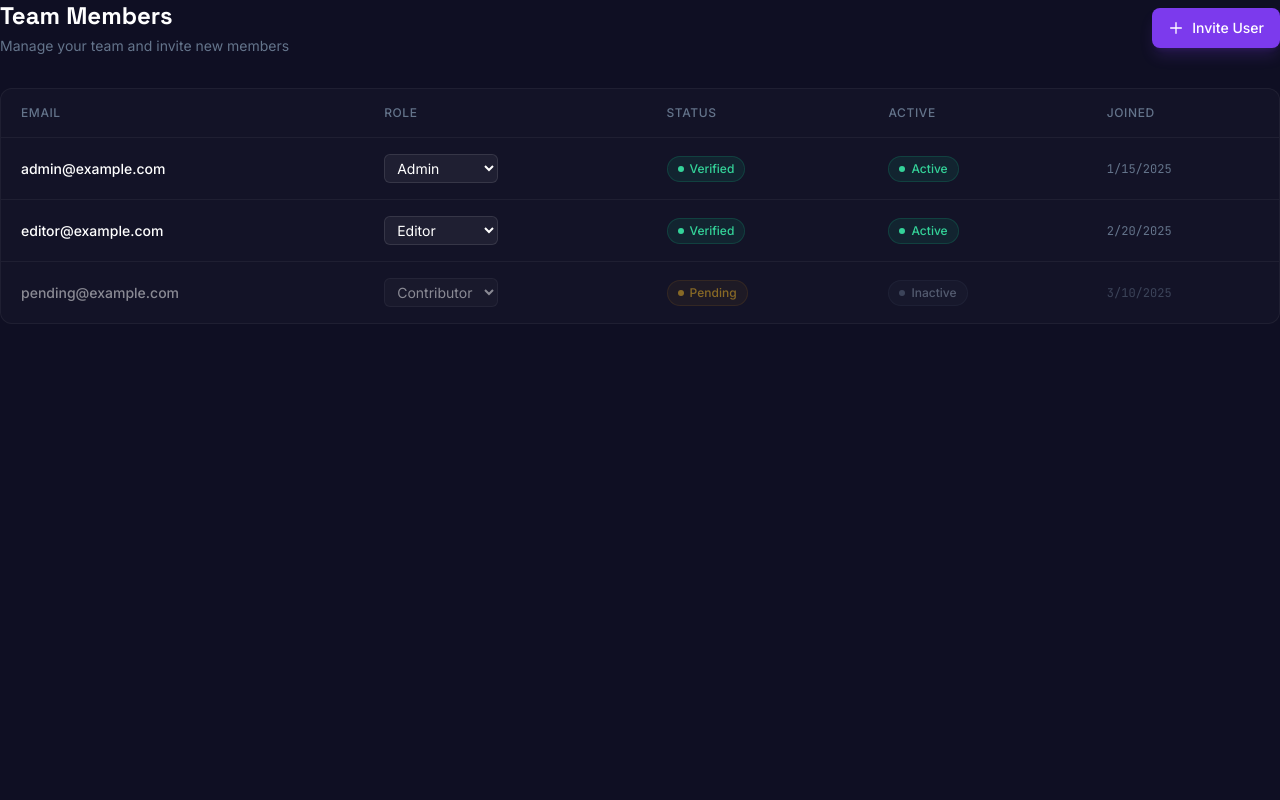
Test: AdminUsersView › shows success message after successful action
Click the button "Invite User".
click(1216, 28)  # box [1152,8,1279,48]
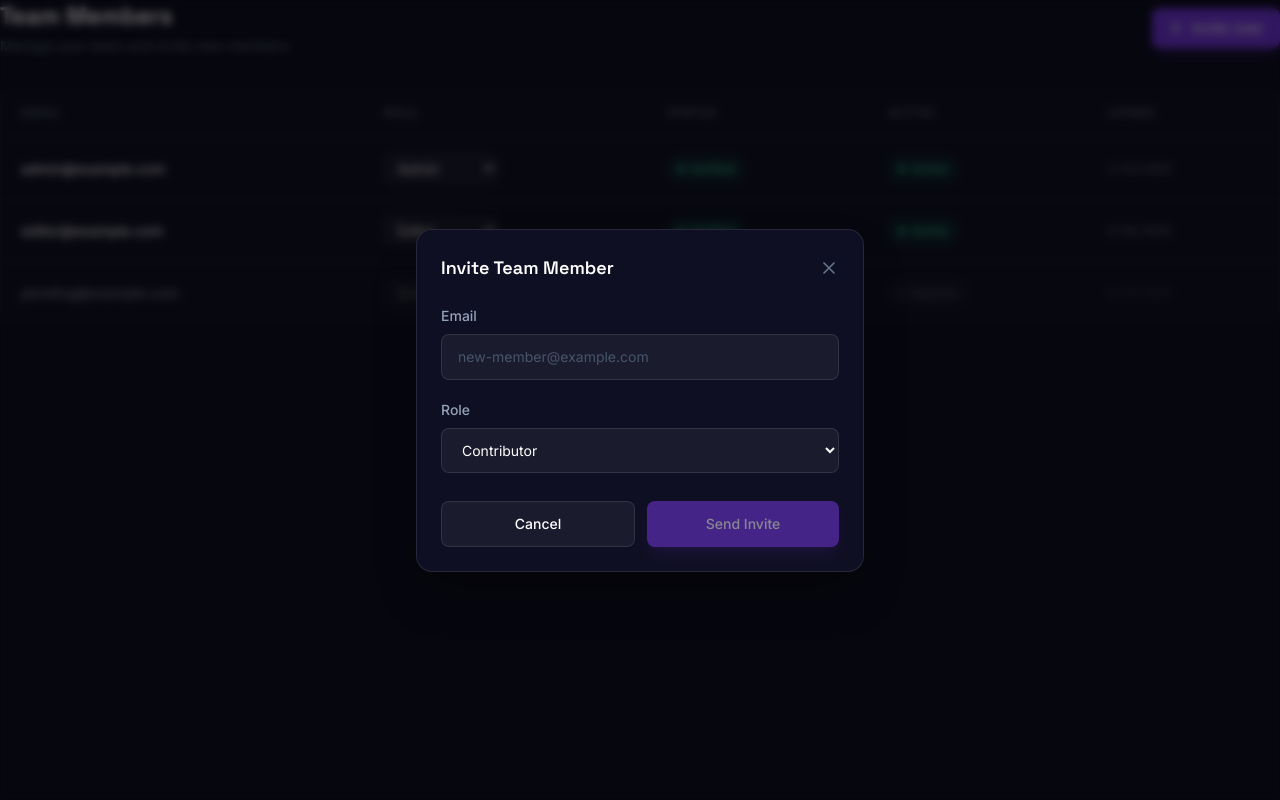
Type "new@example.com" into the field with placeholder "new-member@example.com".
click(640, 356); type("new@example.com")  # box [441,334,839,380]
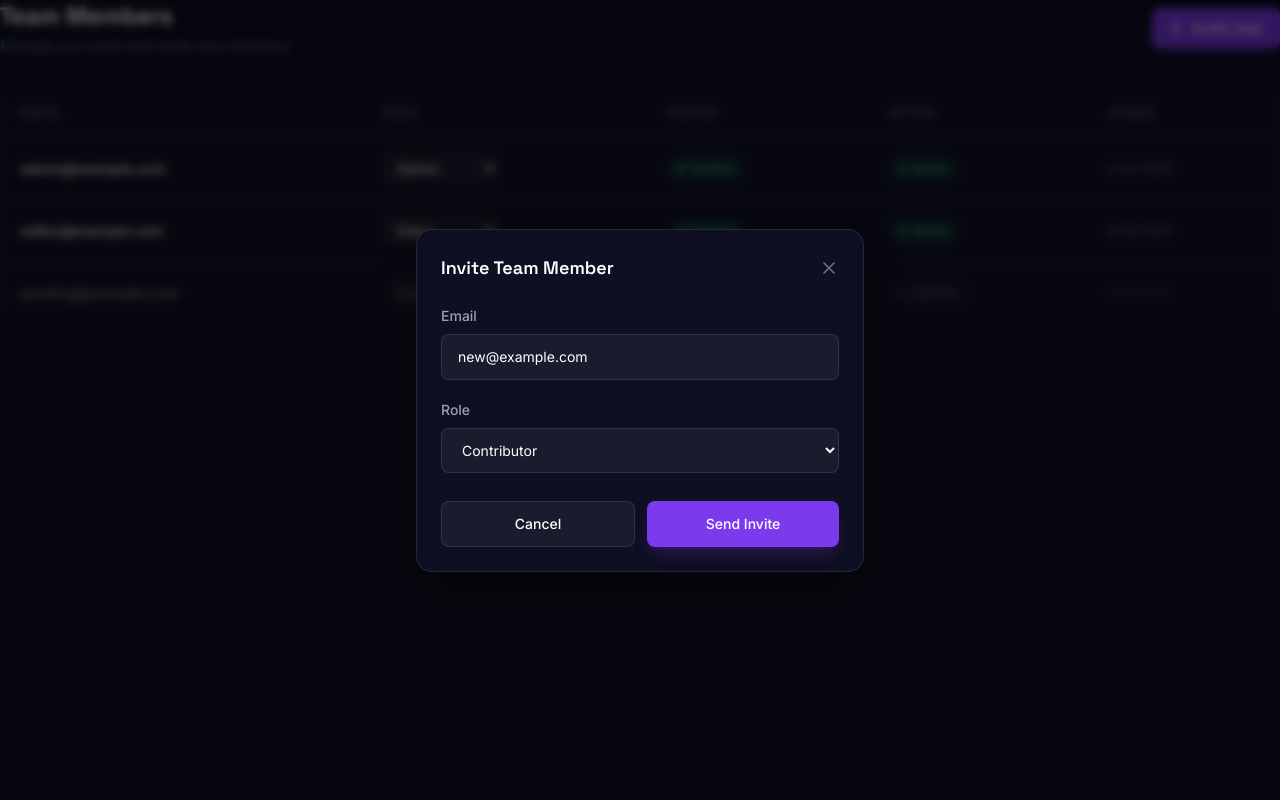
Submit the form, box [441,306,839,546]
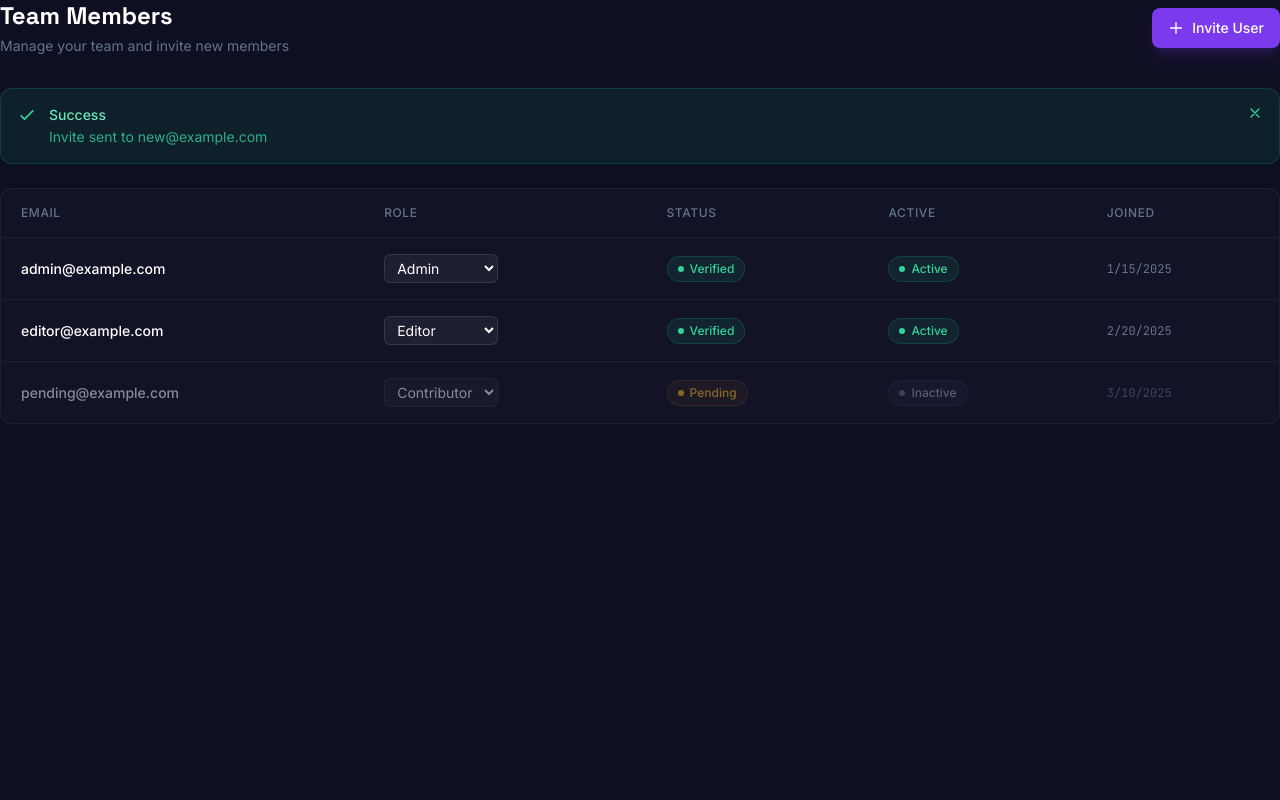
expect the text "Success" is shown: met, box [49,106,106,123]
expect the text "Invite sent to new@example.com" is shown: met, box [49,128,267,145]
